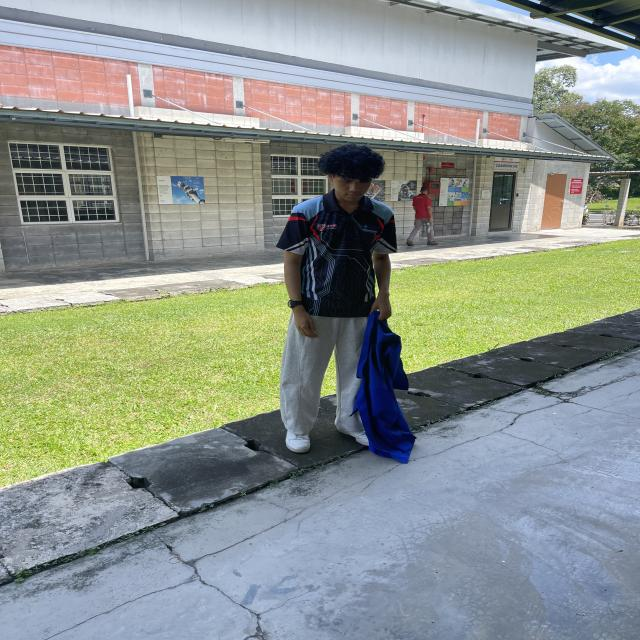person_without_labcoat: (278, 145, 415, 463)
